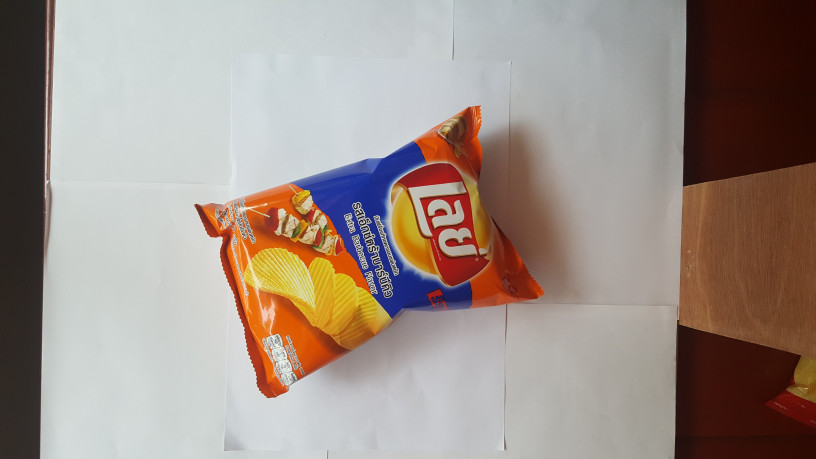lays-bbq: (195, 91, 547, 400)
